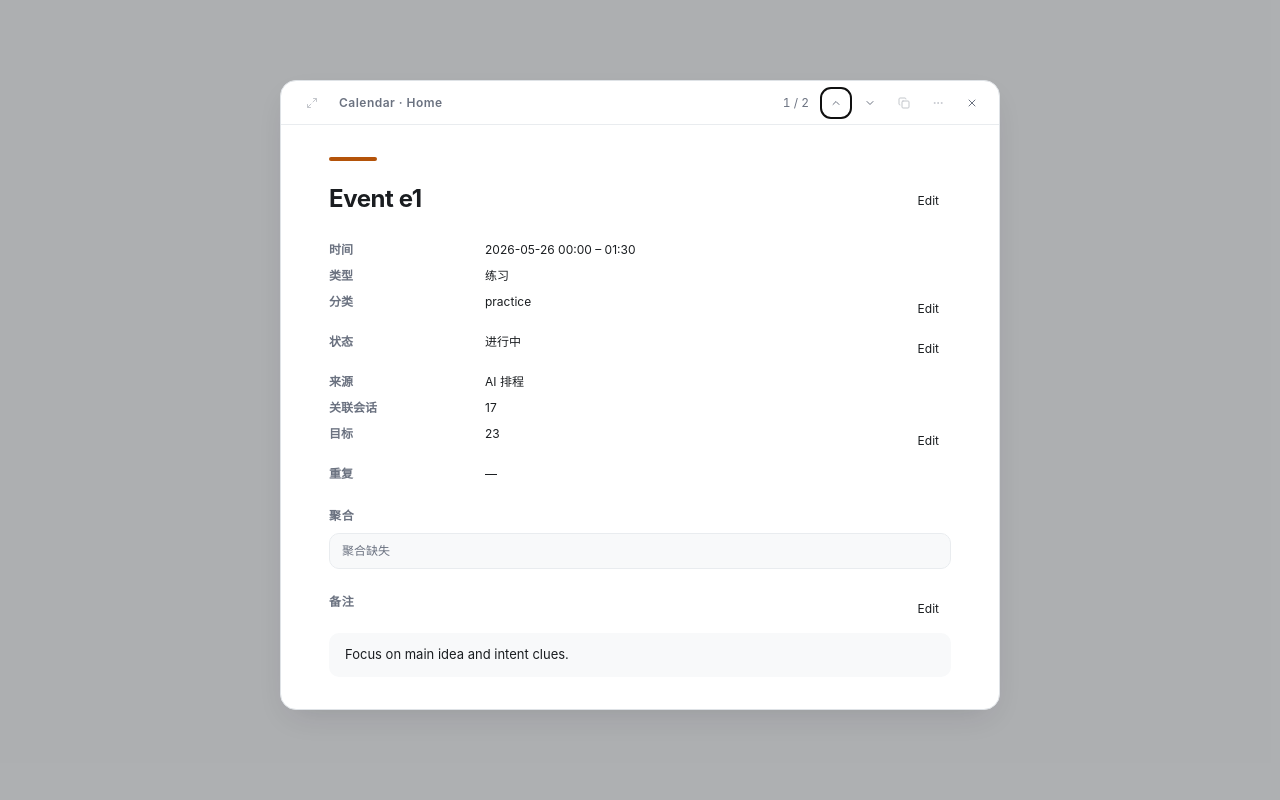
Test: CalendarPeekCard › keeps a saved prop value after stepping away and back inside the same peek session
The image size is (1280, 800).
Click the button titled "edit-status" in the row of "进行中" at (928, 349), box x1=906 y1=333 x2=951 y2=365
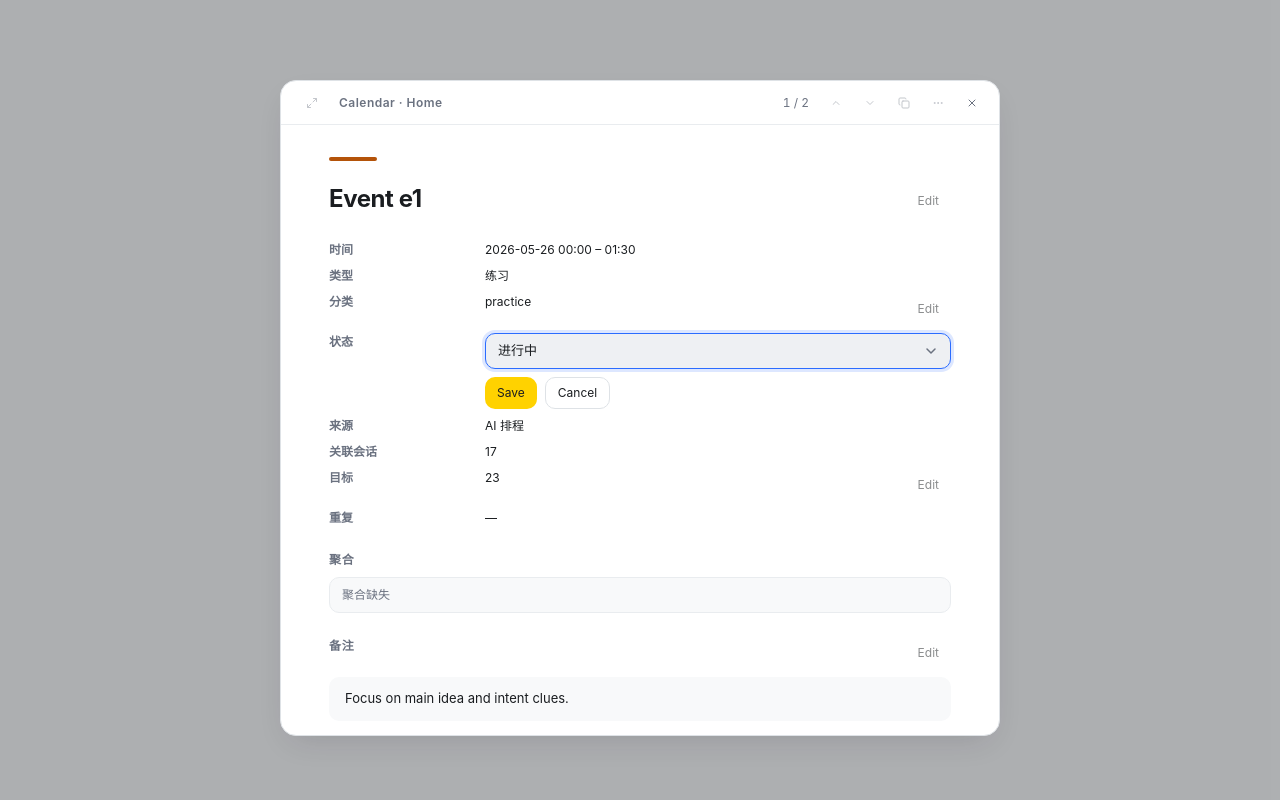
Click the dropdown at (518, 350), box x1=485 y1=333 x2=951 y2=369
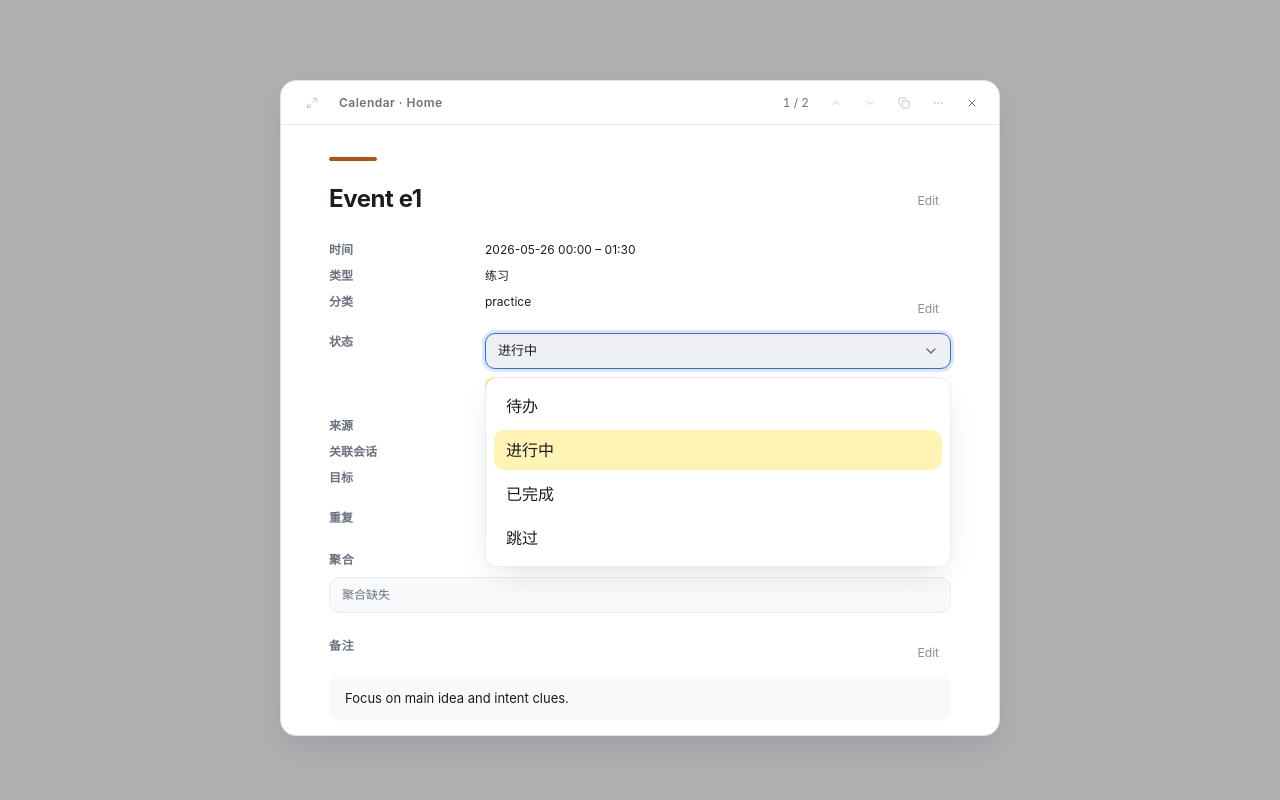
Click the option "已完成" at (530, 494), box x1=494 y1=474 x2=942 y2=514
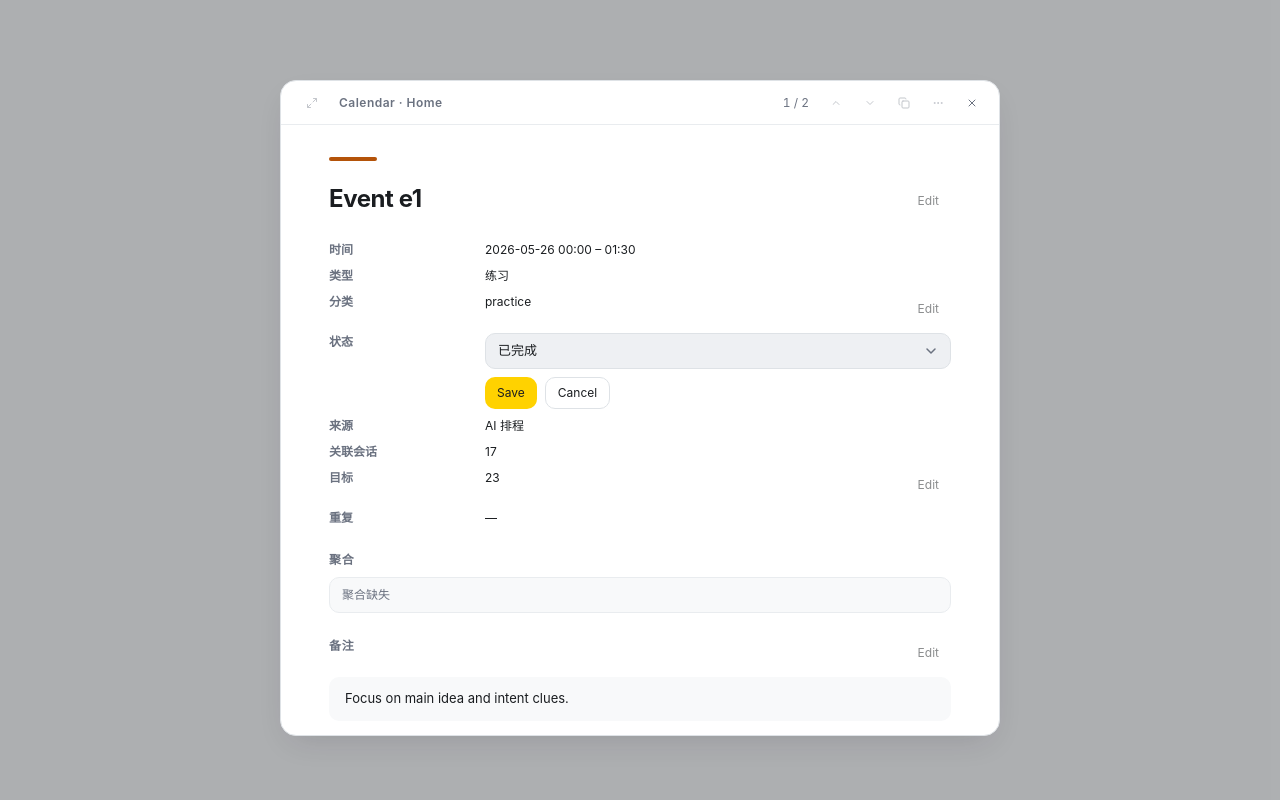
Click the button "Save" at (511, 393), box x1=485 y1=377 x2=537 y2=409
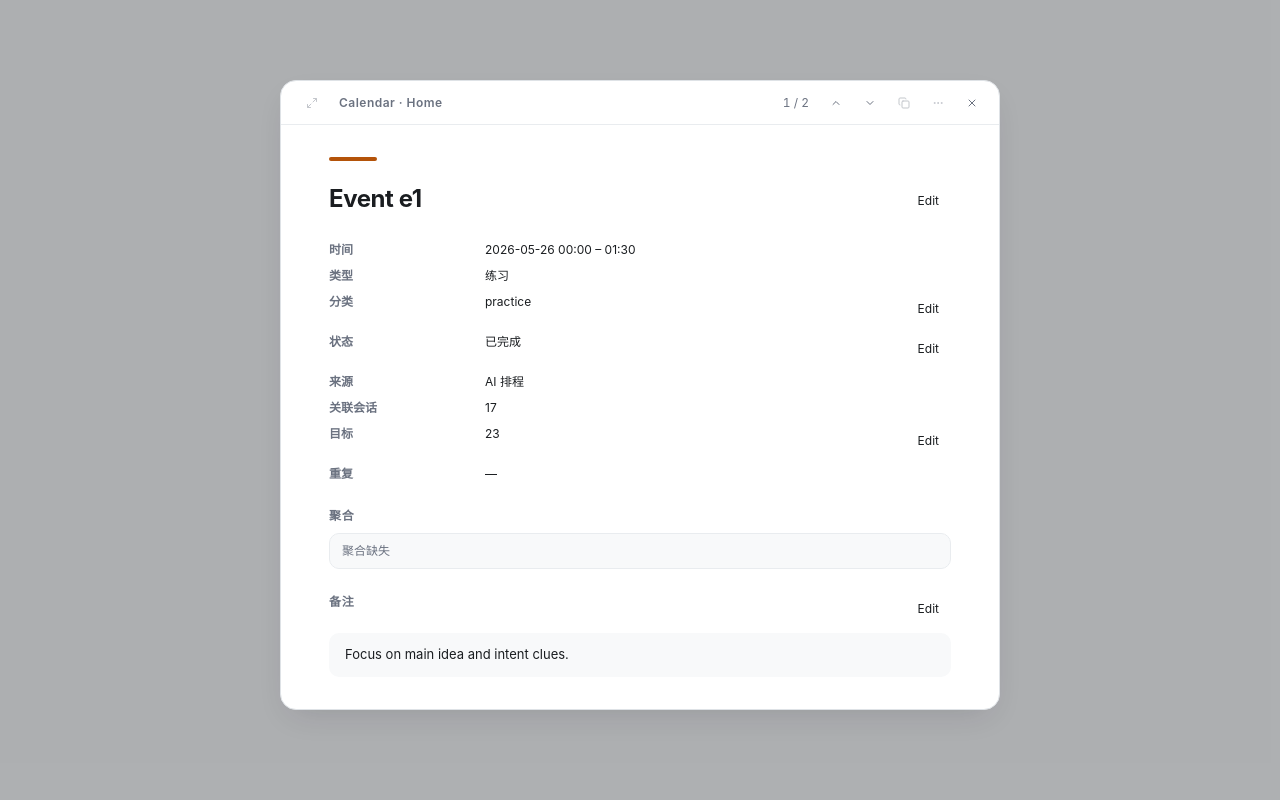
Expected: the element with test id "home-calendar-peek-status" shows "已完成", x1=485 y1=334 x2=521 y2=349
Press ArrowDown
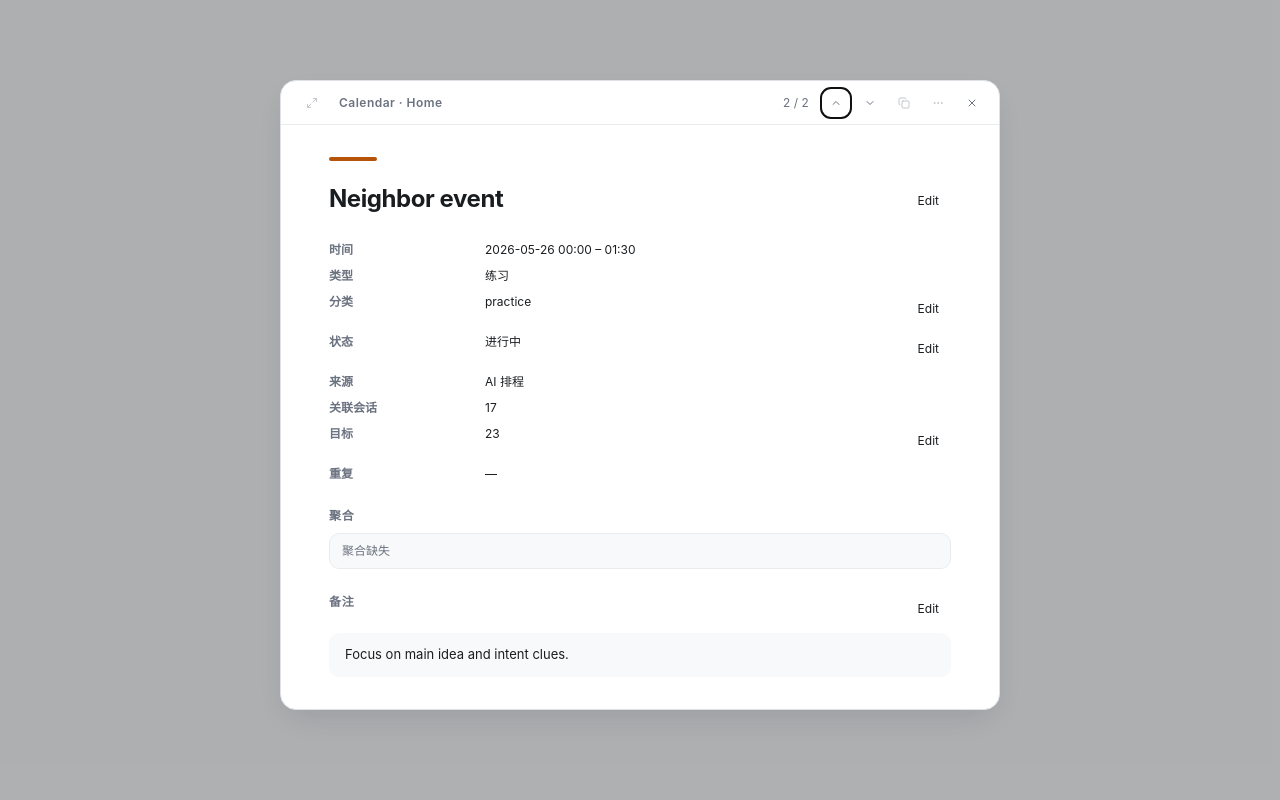
Expected: the heading "Neighbor event" is shown, x1=329 y1=185 x2=503 y2=214
Press ArrowUp
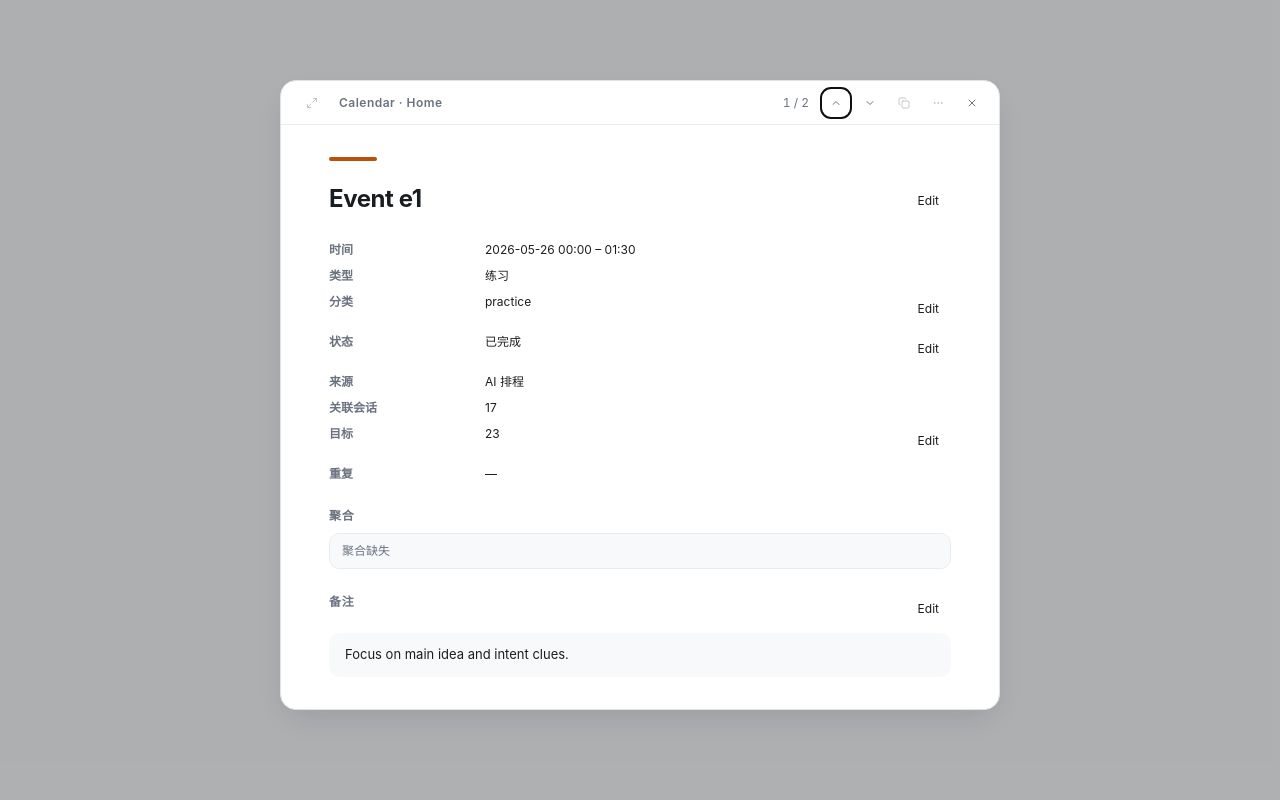
Expected: the element with test id "home-calendar-peek-status" shows "已完成", x1=485 y1=334 x2=521 y2=349
